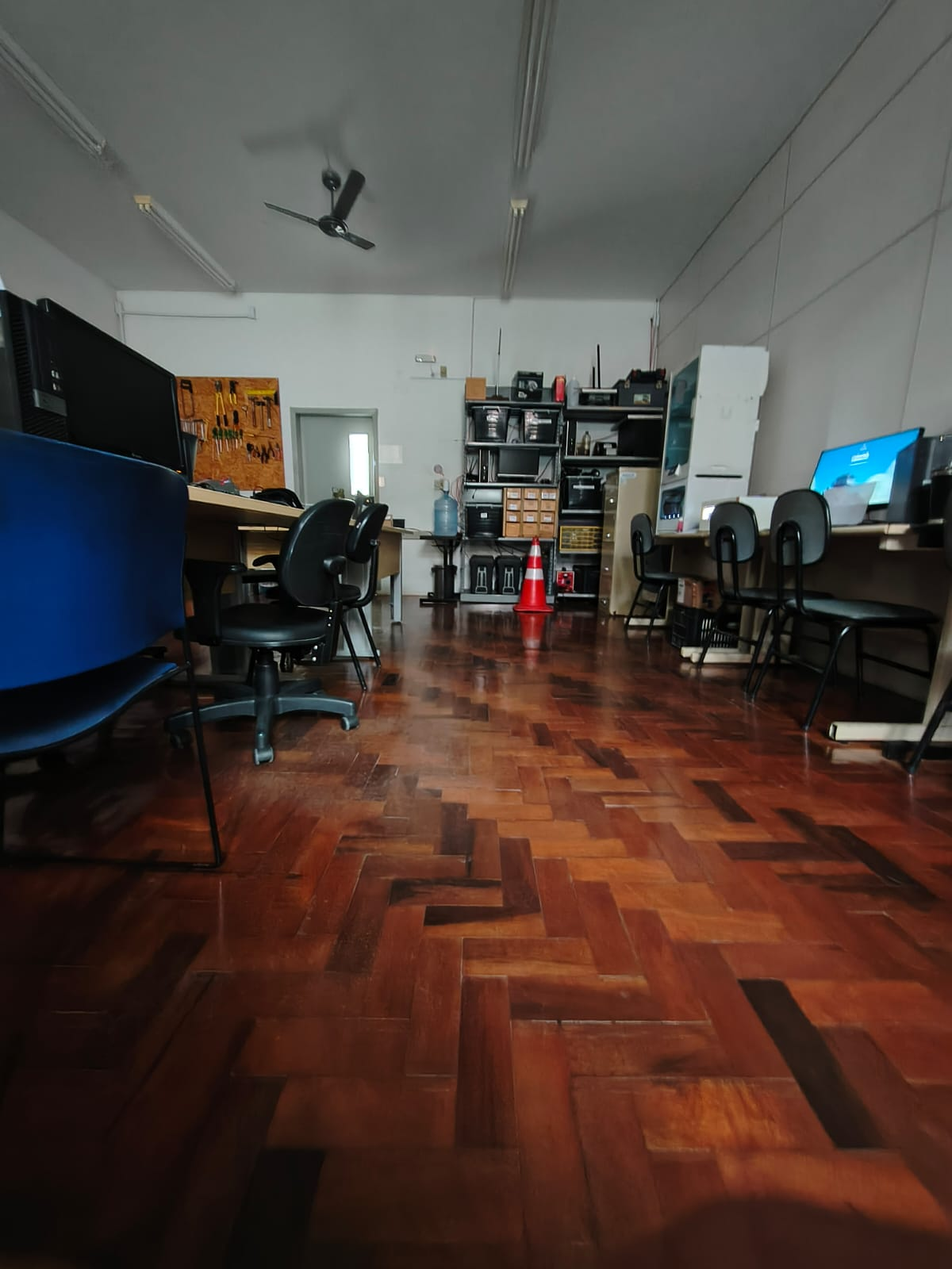cone: (513, 535, 561, 624)
